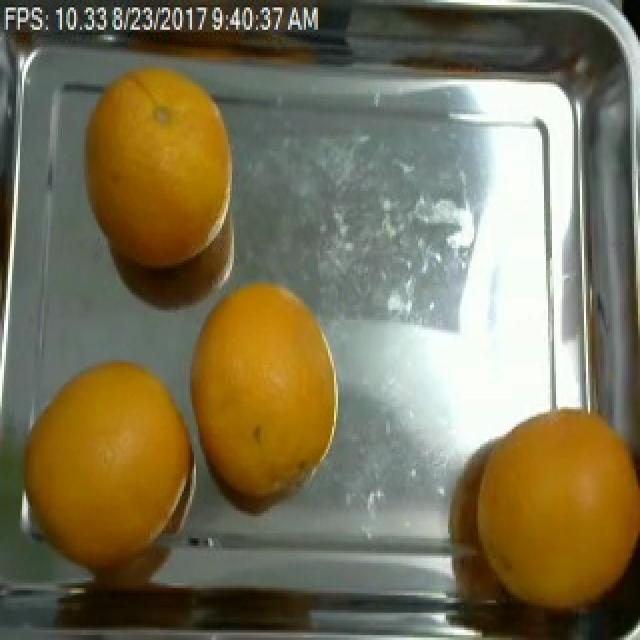Fruit: (178, 268, 348, 456)
